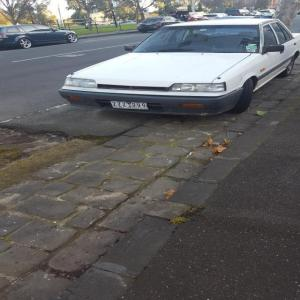Plate: (110, 101, 149, 110)
